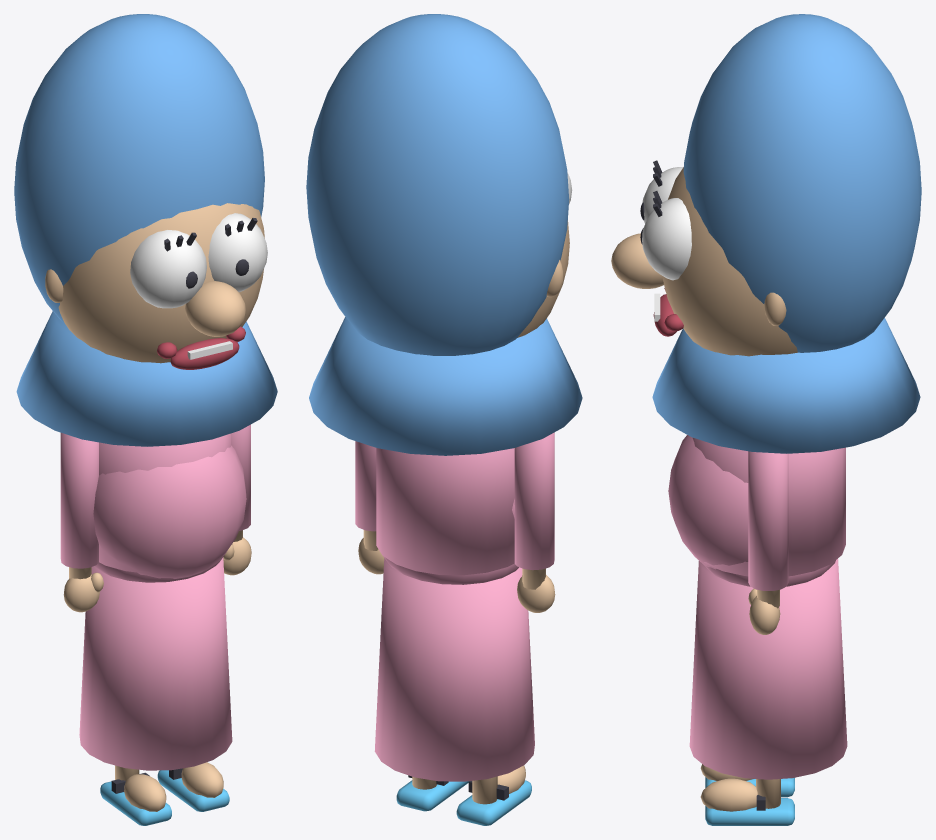
The model's file is Char_MakSom.fbx.
3 views of the same model, side by side, from view 1: azimuth 30°, elevation 25°; view 2: azimuth 150°, elevation 25°; view 3: azimuth 270°, elevation 25° (orthographic). The views are drawn at different scales.
Parts seen in each view (by area): view 1: Head, Torso, ArmR, LegR, LegL, ArmL; view 2: Head, Torso, ArmR, LegR, ArmL, LegL; view 3: Head, Torso, ArmL, LegL, LegR.
Boxes of the visible parts, x1,y1,x2,y2 form: Head: [14, 14, 277, 446]; Torso: [79, 433, 246, 770]; ArmR: [60, 433, 103, 612]; LegR: [100, 765, 171, 825]; LegL: [157, 762, 229, 811]; ArmL: [223, 424, 251, 575]; Head: [306, 14, 582, 455]; Torso: [374, 448, 534, 781]; ArmR: [514, 432, 555, 612]; LegR: [456, 765, 531, 825]; ArmL: [355, 441, 384, 574]; LegL: [396, 775, 468, 811]; Head: [611, 14, 921, 453]; Torso: [668, 435, 847, 779]; ArmL: [748, 451, 788, 634]; LegL: [700, 778, 794, 825]; LegR: [700, 764, 794, 797].
Bounding box in the file's own units: 0.728 × 2.35 × 0.843.
